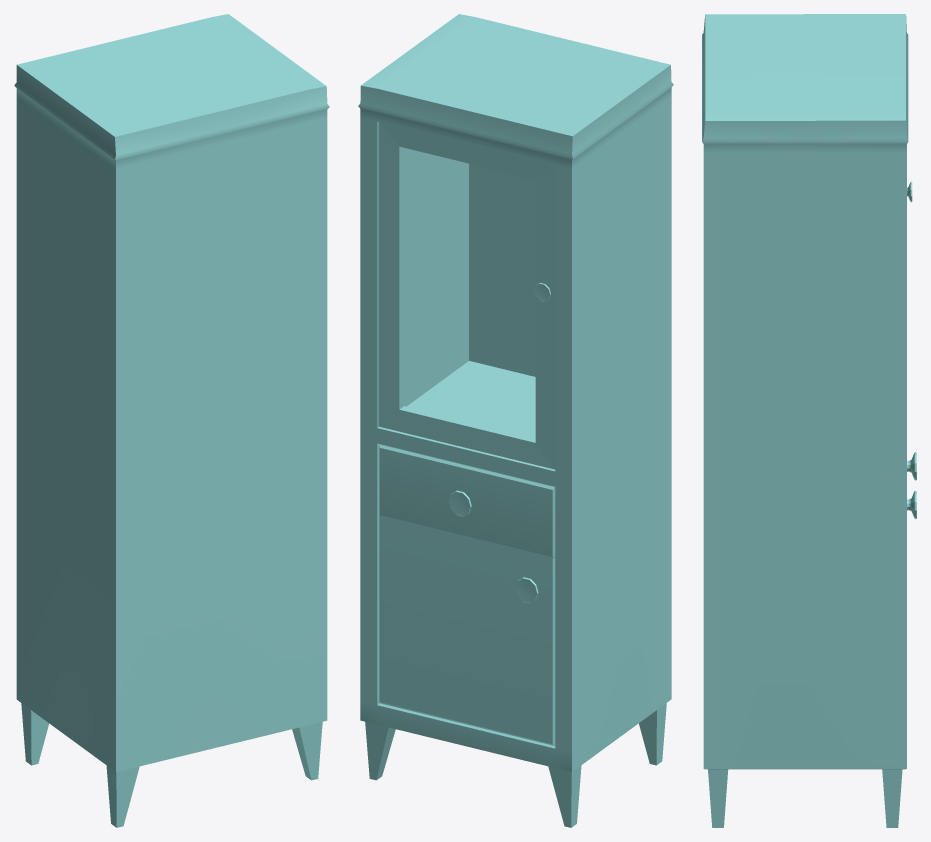
Rendered from InfirmaryCabinet02.fbx.
3 views of the same model, side by side, from view 1: azimuth 30°, elevation 25°; view 2: azimuth 150°, elevation 25°; view 3: azimuth 270°, elevation 25° (orthographic). The views are drawn at different scales.
Visible parts, largest first — view 1: cabinet_medium_polySurface100; view 2: cabinet_medium_polySurface100; view 3: cabinet_medium_polySurface100.
Boxes of the visible parts, x1,y1,x2,y2 form: cabinet_medium_polySurface100: [14, 14, 329, 827]; cabinet_medium_polySurface100: [358, 14, 673, 827]; cabinet_medium_polySurface100: [702, 14, 916, 827].
Size of the model in its own units: 52.1 by 161 by 44.18.
